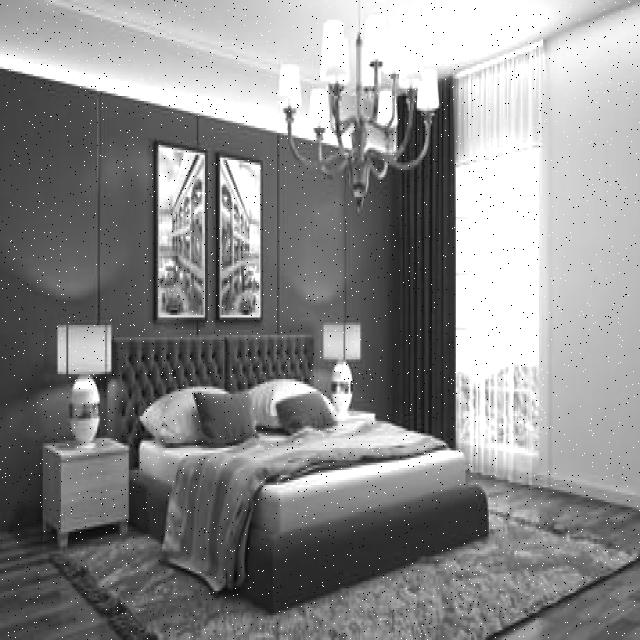bed: (123, 333, 487, 583)
